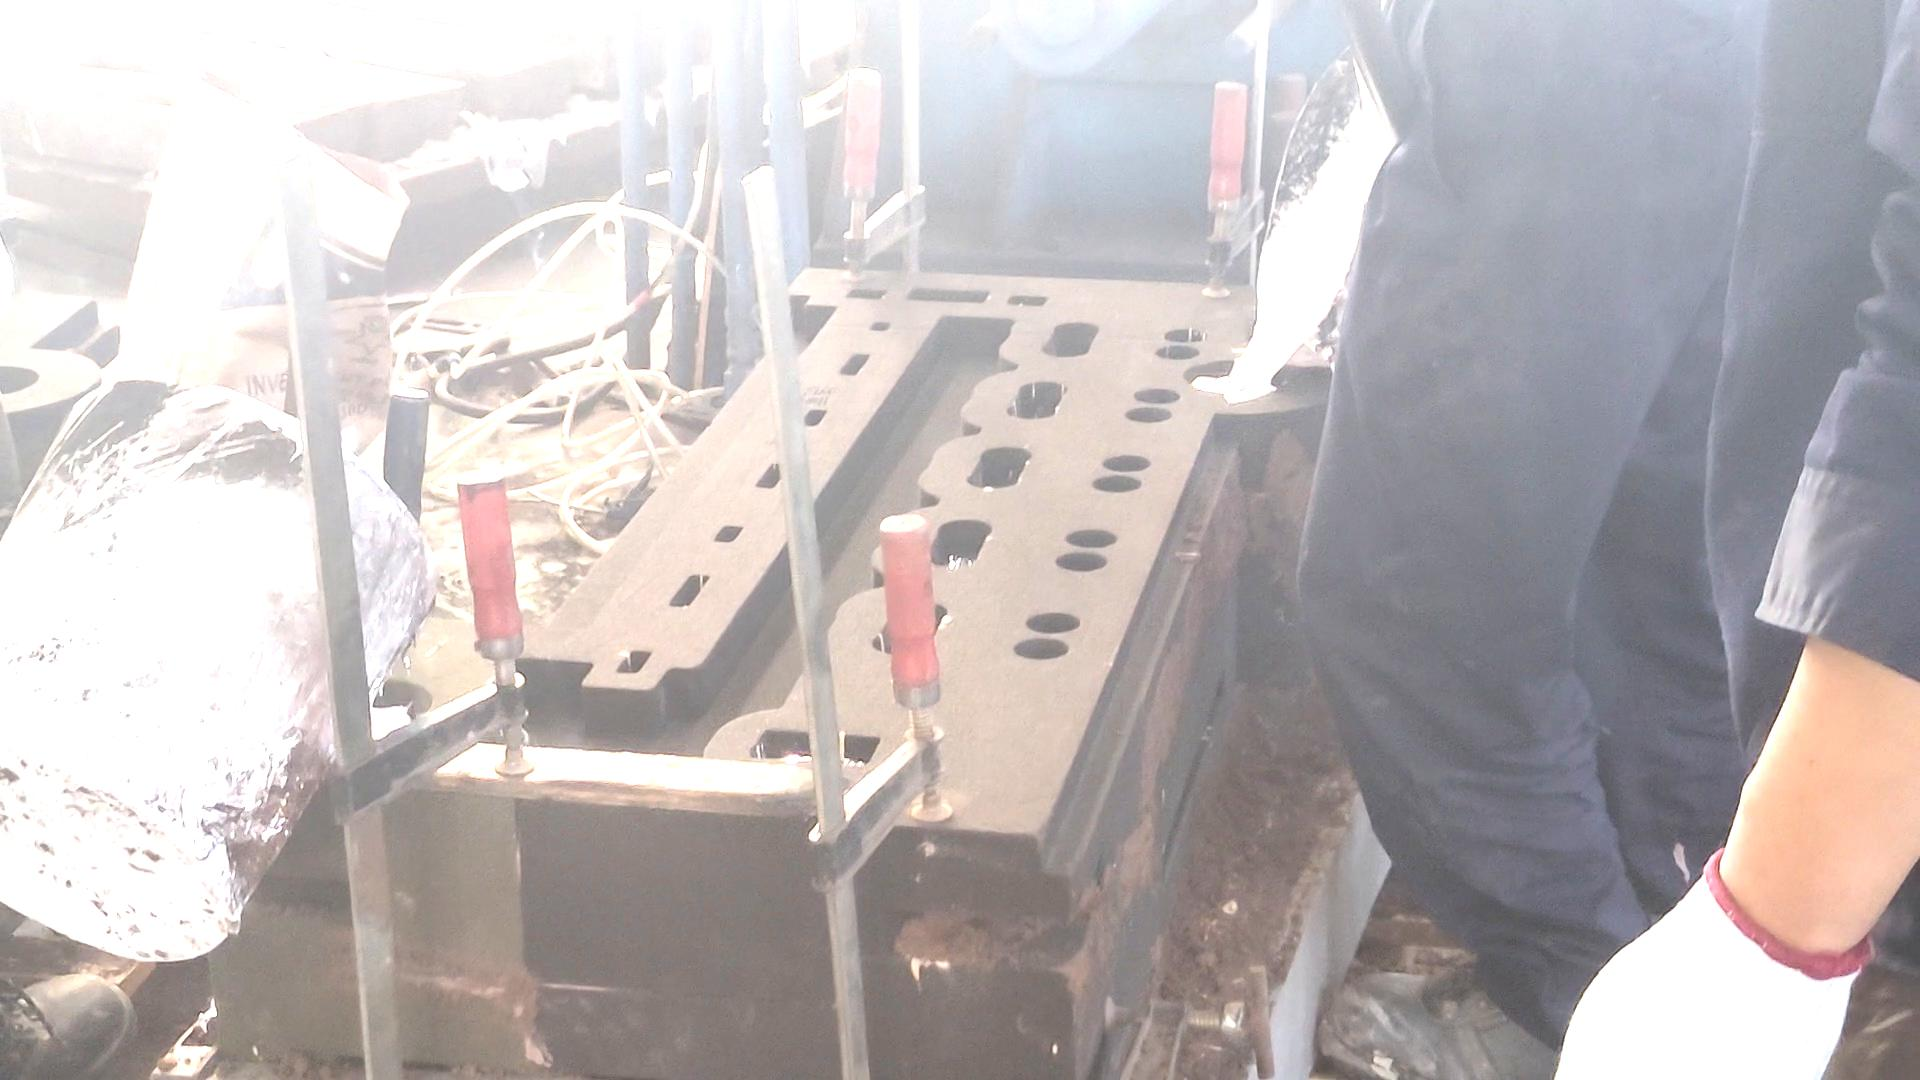pouring hole: (322, 676, 431, 732), (1182, 360, 1283, 393), (1, 367, 40, 397)
